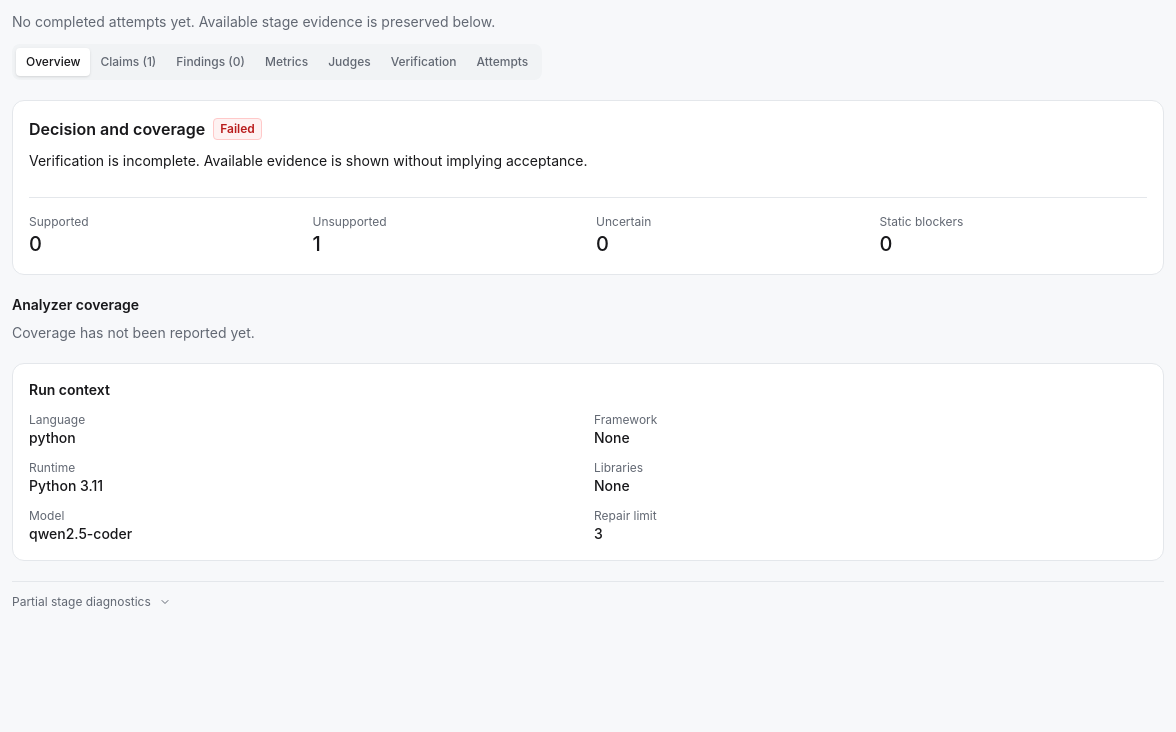
Test: workspace interactions › renders retained partial claims in a zero-attempt failure
Expected: the text "No completed attempts yet" is shown, [12,13,495,30]
Click the tab "Claims (1)": (128, 62) [90,48,166,76]
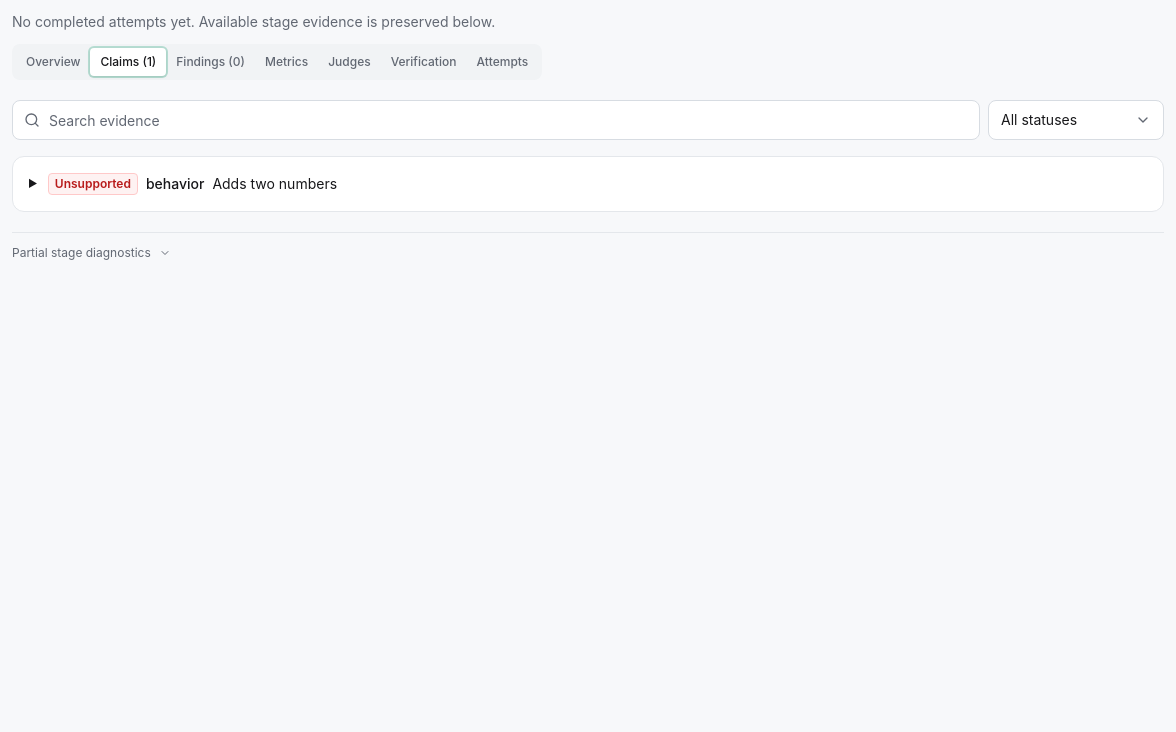
Result: the text "Adds two numbers" is shown at [212,174,337,194]
